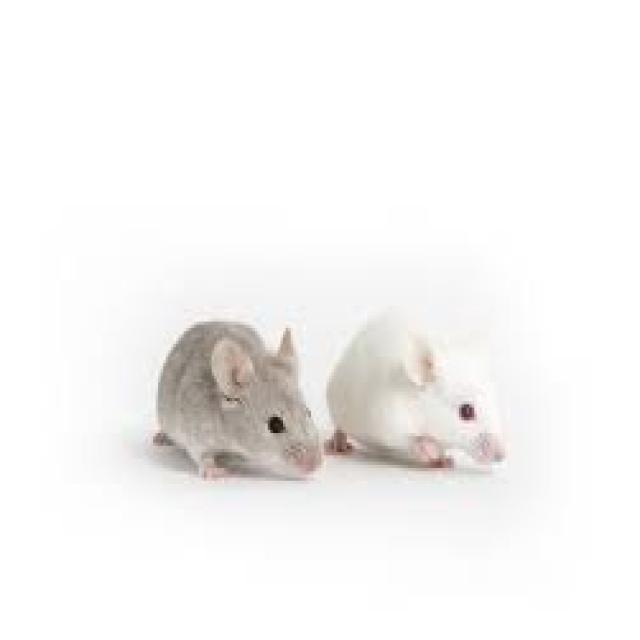Mouse: (154, 319, 329, 490), (325, 315, 506, 473)
